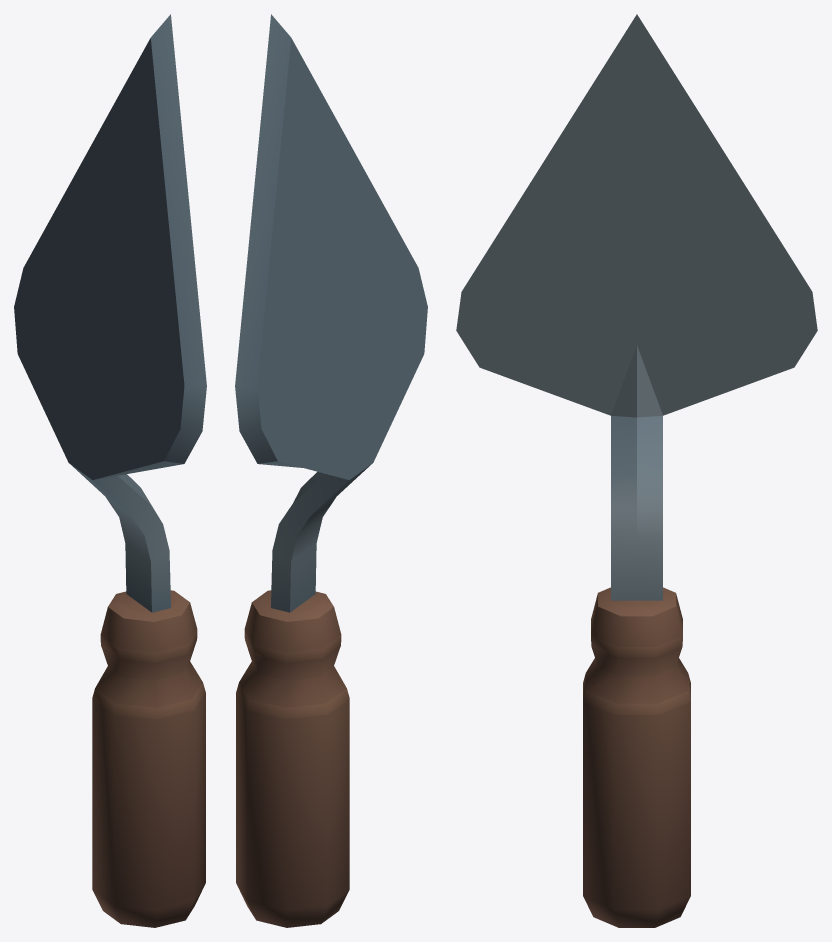
File: KT_trowel.glb
3 renders of one model, left to right at view 1: azimuth 30°, elevation 25°; view 2: azimuth 150°, elevation 25°; view 3: azimuth 270°, elevation 25°, orthographic.
Visible parts, largest first — view 1: trowel; view 2: trowel; view 3: trowel.
Boxes of the visible parts, left/top/right/bottom form: trowel: left=14, top=14, right=206, bottom=927; trowel: left=235, top=14, right=427, bottom=927; trowel: left=456, top=14, right=817, bottom=927.
Size of the model in its own units: 0.1887 by 1.42 by 0.5067.
